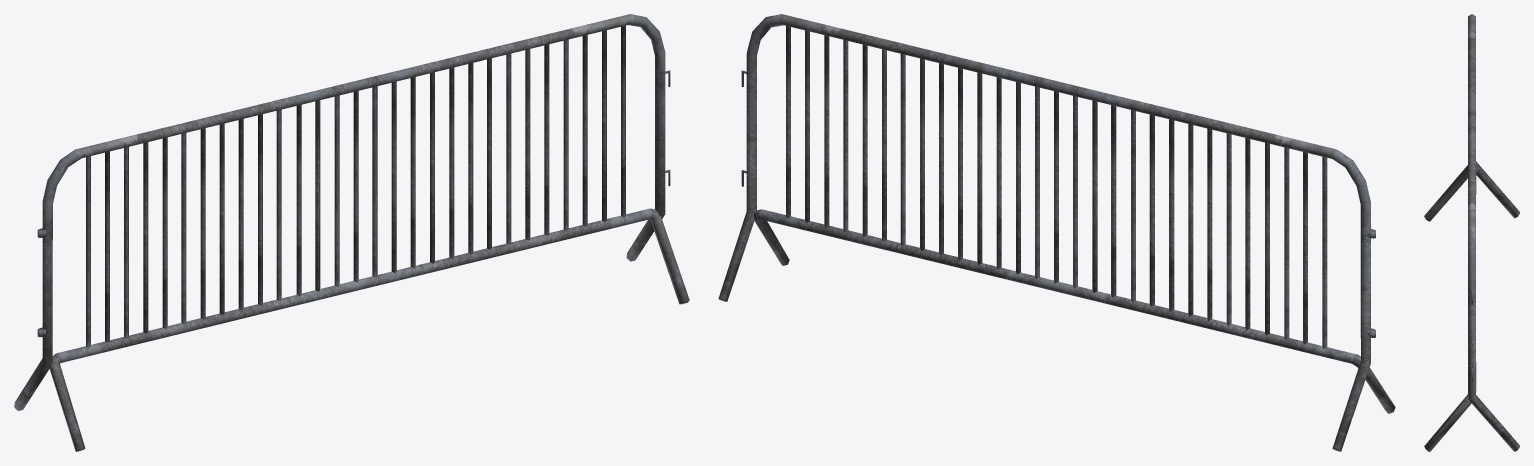
The model's file is metal_barricades.glb.
3 views of the same model, side by side, from view 1: azimuth 30°, elevation 25°; view 2: azimuth 150°, elevation 25°; view 3: azimuth 270°, elevation 25° (orthographic). The views are drawn at different scales.
Parts seen in each view (by area): view 1: Barricades_001; view 2: Barricades_001; view 3: Barricades_001.
Boxes of the visible parts, bbox=[...] form: Barricades_001: bbox=[14, 14, 689, 451]; Barricades_001: bbox=[718, 14, 1395, 451]; Barricades_001: bbox=[1424, 14, 1519, 451].
Size of the model in its own units: 145 by 60.64 by 24.32.
Materials: 1 (1 with a texture image).
